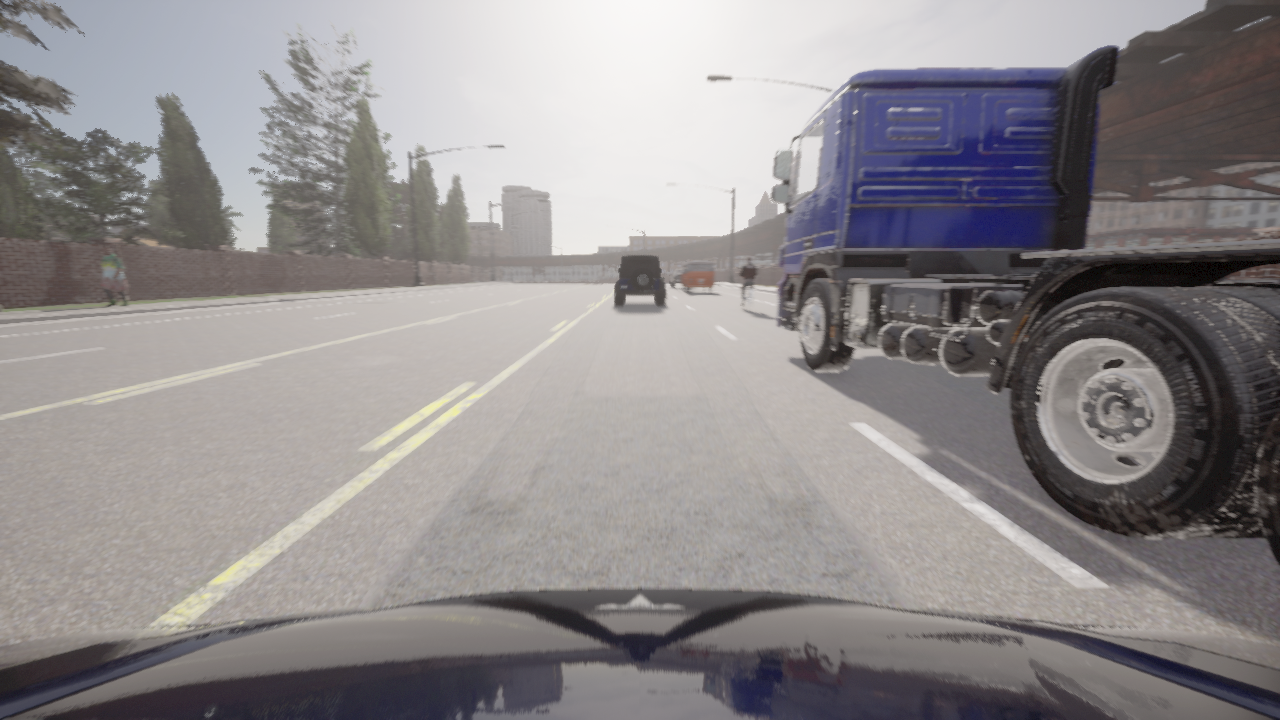cyclist: (771, 45, 1279, 566), (0, 588, 1279, 719), (614, 255, 665, 305), (679, 261, 713, 292), (741, 286, 753, 310), (669, 268, 681, 286), (660, 277, 663, 280)
pedestrian: (100, 247, 128, 306)
